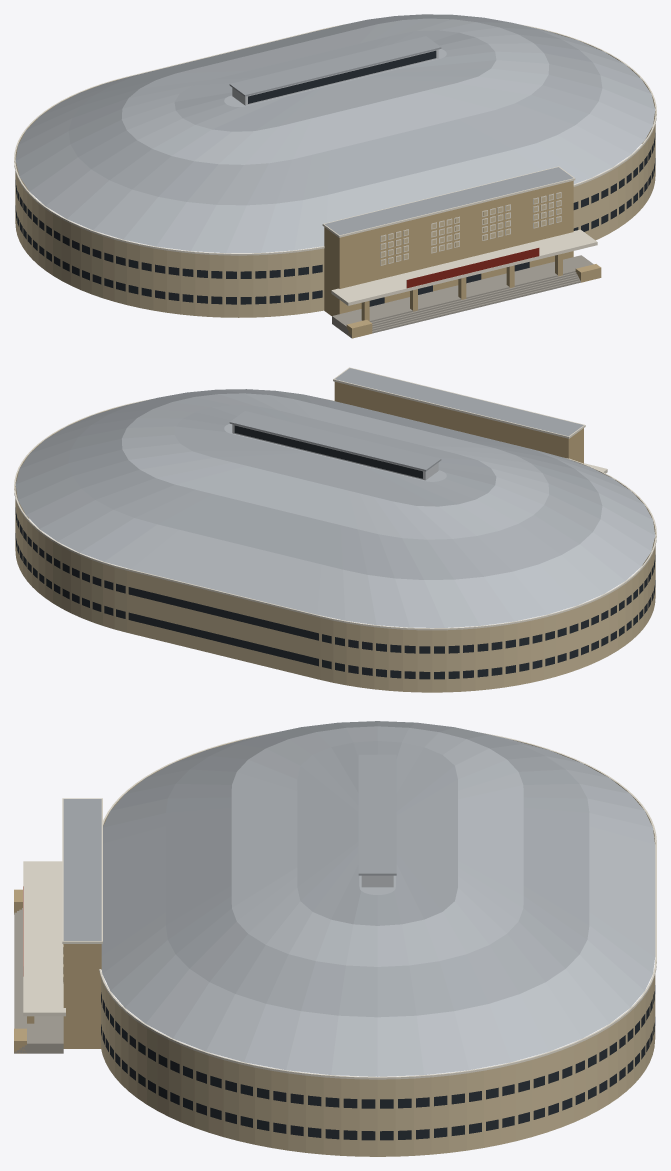
Rendered from barton-coliseum.glb.
The picture shows the model from 3 angles, top to bottom: view 1: azimuth 30°, elevation 25°; view 2: azimuth 150°, elevation 25°; view 3: azimuth 270°, elevation 25°; orthographic projection. The views are drawn at different scales.
Parts seen in each view (by area): view 1: barton_roof, barton_roof2, barton_brick, barton_brick2, barton_glass, barton_base, barton_trim, barton_canopy, barton_letters, barton_sash; view 2: barton_roof, barton_roof2, barton_brick, barton_glass, barton_brick2, barton_trim, barton_sash; view 3: barton_roof, barton_roof2, barton_brick, barton_glass, barton_canopy, barton_brick2, barton_trim, barton_base.
Part boxes in pixels (box(x1,y1,x2,y2)): barton_roof: box(15, 18, 655, 253); barton_roof2: box(68, 14, 602, 235); barton_brick: box(15, 28, 655, 317); barton_brick2: box(324, 180, 601, 338); barton_glass: box(15, 50, 655, 306); barton_base: box(332, 255, 593, 338); barton_trim: box(14, 24, 656, 265); barton_canopy: box(331, 229, 597, 305); barton_letters: box(406, 248, 539, 288); barton_sash: box(232, 49, 438, 105); barton_roof: box(15, 393, 655, 627); barton_roof2: box(68, 368, 602, 579); barton_brick: box(15, 407, 655, 692); barton_glass: box(15, 425, 655, 679); barton_brick2: box(334, 382, 583, 463); barton_trim: box(14, 367, 656, 630); barton_sash: box(232, 424, 438, 480); barton_roof: box(101, 726, 655, 1076); barton_roof2: box(63, 721, 589, 1017); barton_brick: box(63, 740, 655, 1156); barton_glass: box(101, 985, 655, 1140); barton_canopy: box(23, 861, 65, 1016); barton_brick2: box(14, 889, 101, 1053); barton_trim: box(62, 732, 656, 1079); barton_base: box(14, 908, 63, 1053).
Bounding box in the file's own units: 115 × 25.2 × 88.05.
